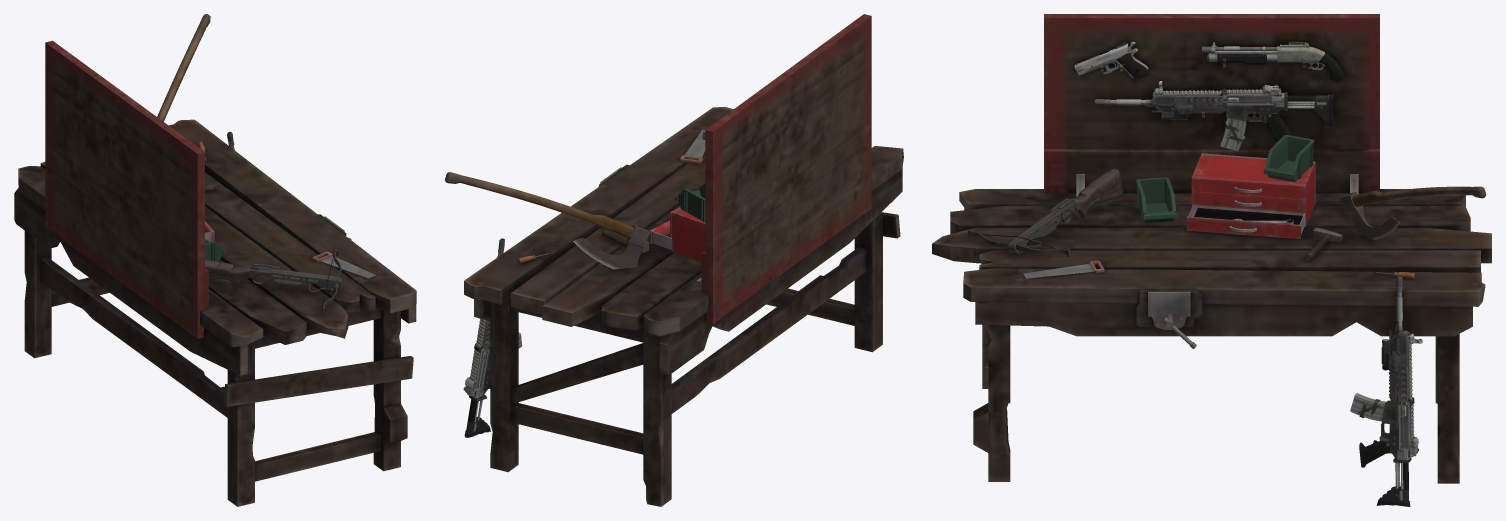
Rendered from SM_WeaponFactoryMedieval_77e71d.glb.
3 renders of one model, left to right at view 1: azimuth 30°, elevation 25°; view 2: azimuth 150°, elevation 25°; view 3: azimuth 270°, elevation 25°, orthographic. The views are drawn at different scales.
Size of the model in its own units: 1.27 by 1.83 by 2.47.
Materials: 4 (4 with a texture image).
